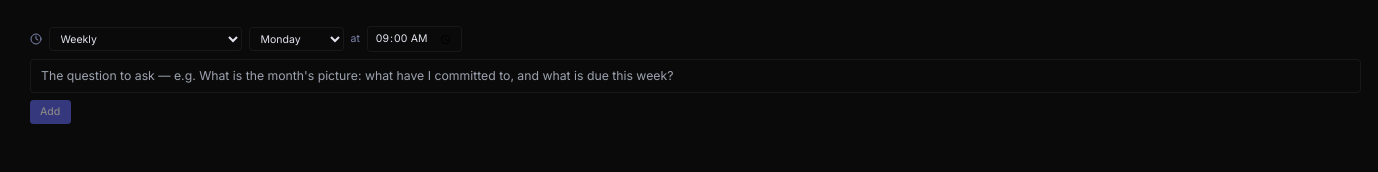
it: runs on its own › the obligations kind needs no question
Select "For each obligation coming due" in the dropdown with test id "trigger-kind" at {"x": 145, "y": 39}, box [48,27,242,51]
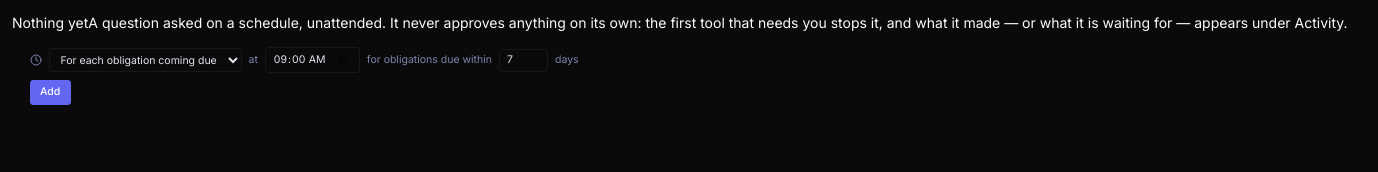
Result: the field with test id "trigger-question" is gone
Result: the button with test id "trigger-add" is enabled at [30,80,71,104]
